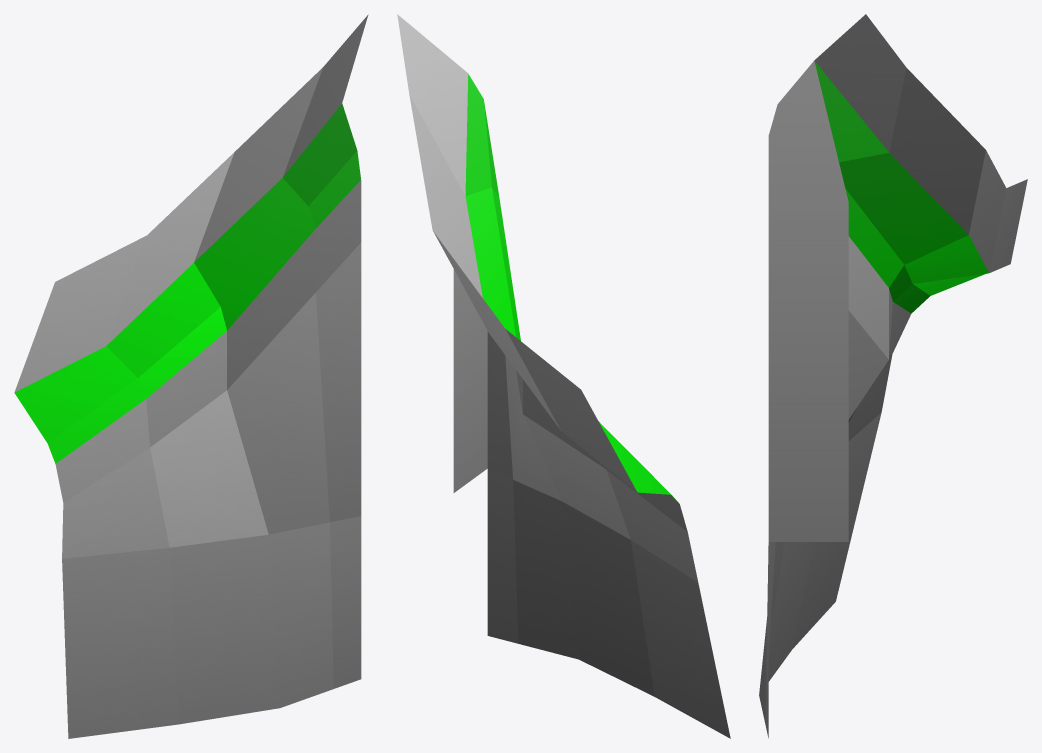
The model's file is Forest Background 2.fbx.
3 views of the same model, side by side, from view 1: azimuth 30°, elevation 25°; view 2: azimuth 150°, elevation 25°; view 3: azimuth 270°, elevation 25° (orthographic). The views are drawn at different scales.
Visible parts, largest first — view 1: polySurface121; view 2: polySurface121; view 3: polySurface121.
Part boxes in pixels (<box>): polySurface121: <box>14,14,368,738</box>; polySurface121: <box>397,14,730,738</box>; polySurface121: <box>759,14,1027,738</box>.
Size of the model in its own units: 82.91 by 162 by 51.15.
Materials: 1 (1 with a texture image).
